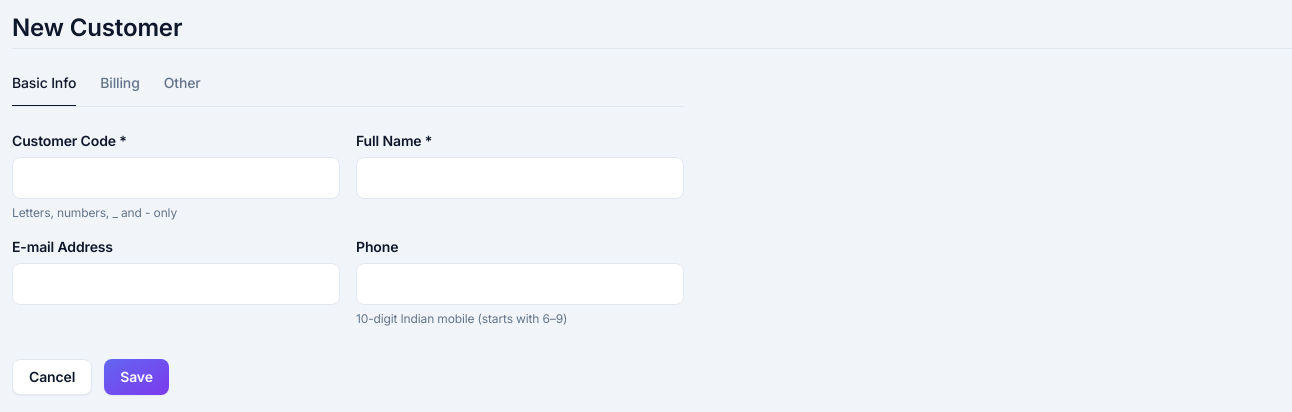
it: CustomerFormPage › switches to other tab and shows notes
Click the button "Other" at coordinates (182, 90), box [164,73,201,107]
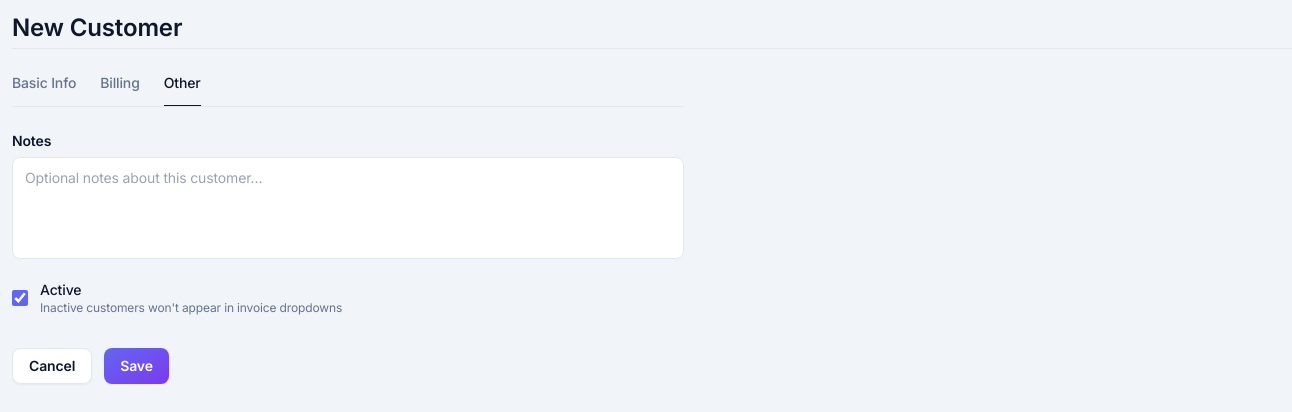
Check: the text box with placeholder "Optional notes about this customer…" is shown, box [12,157,684,259]
